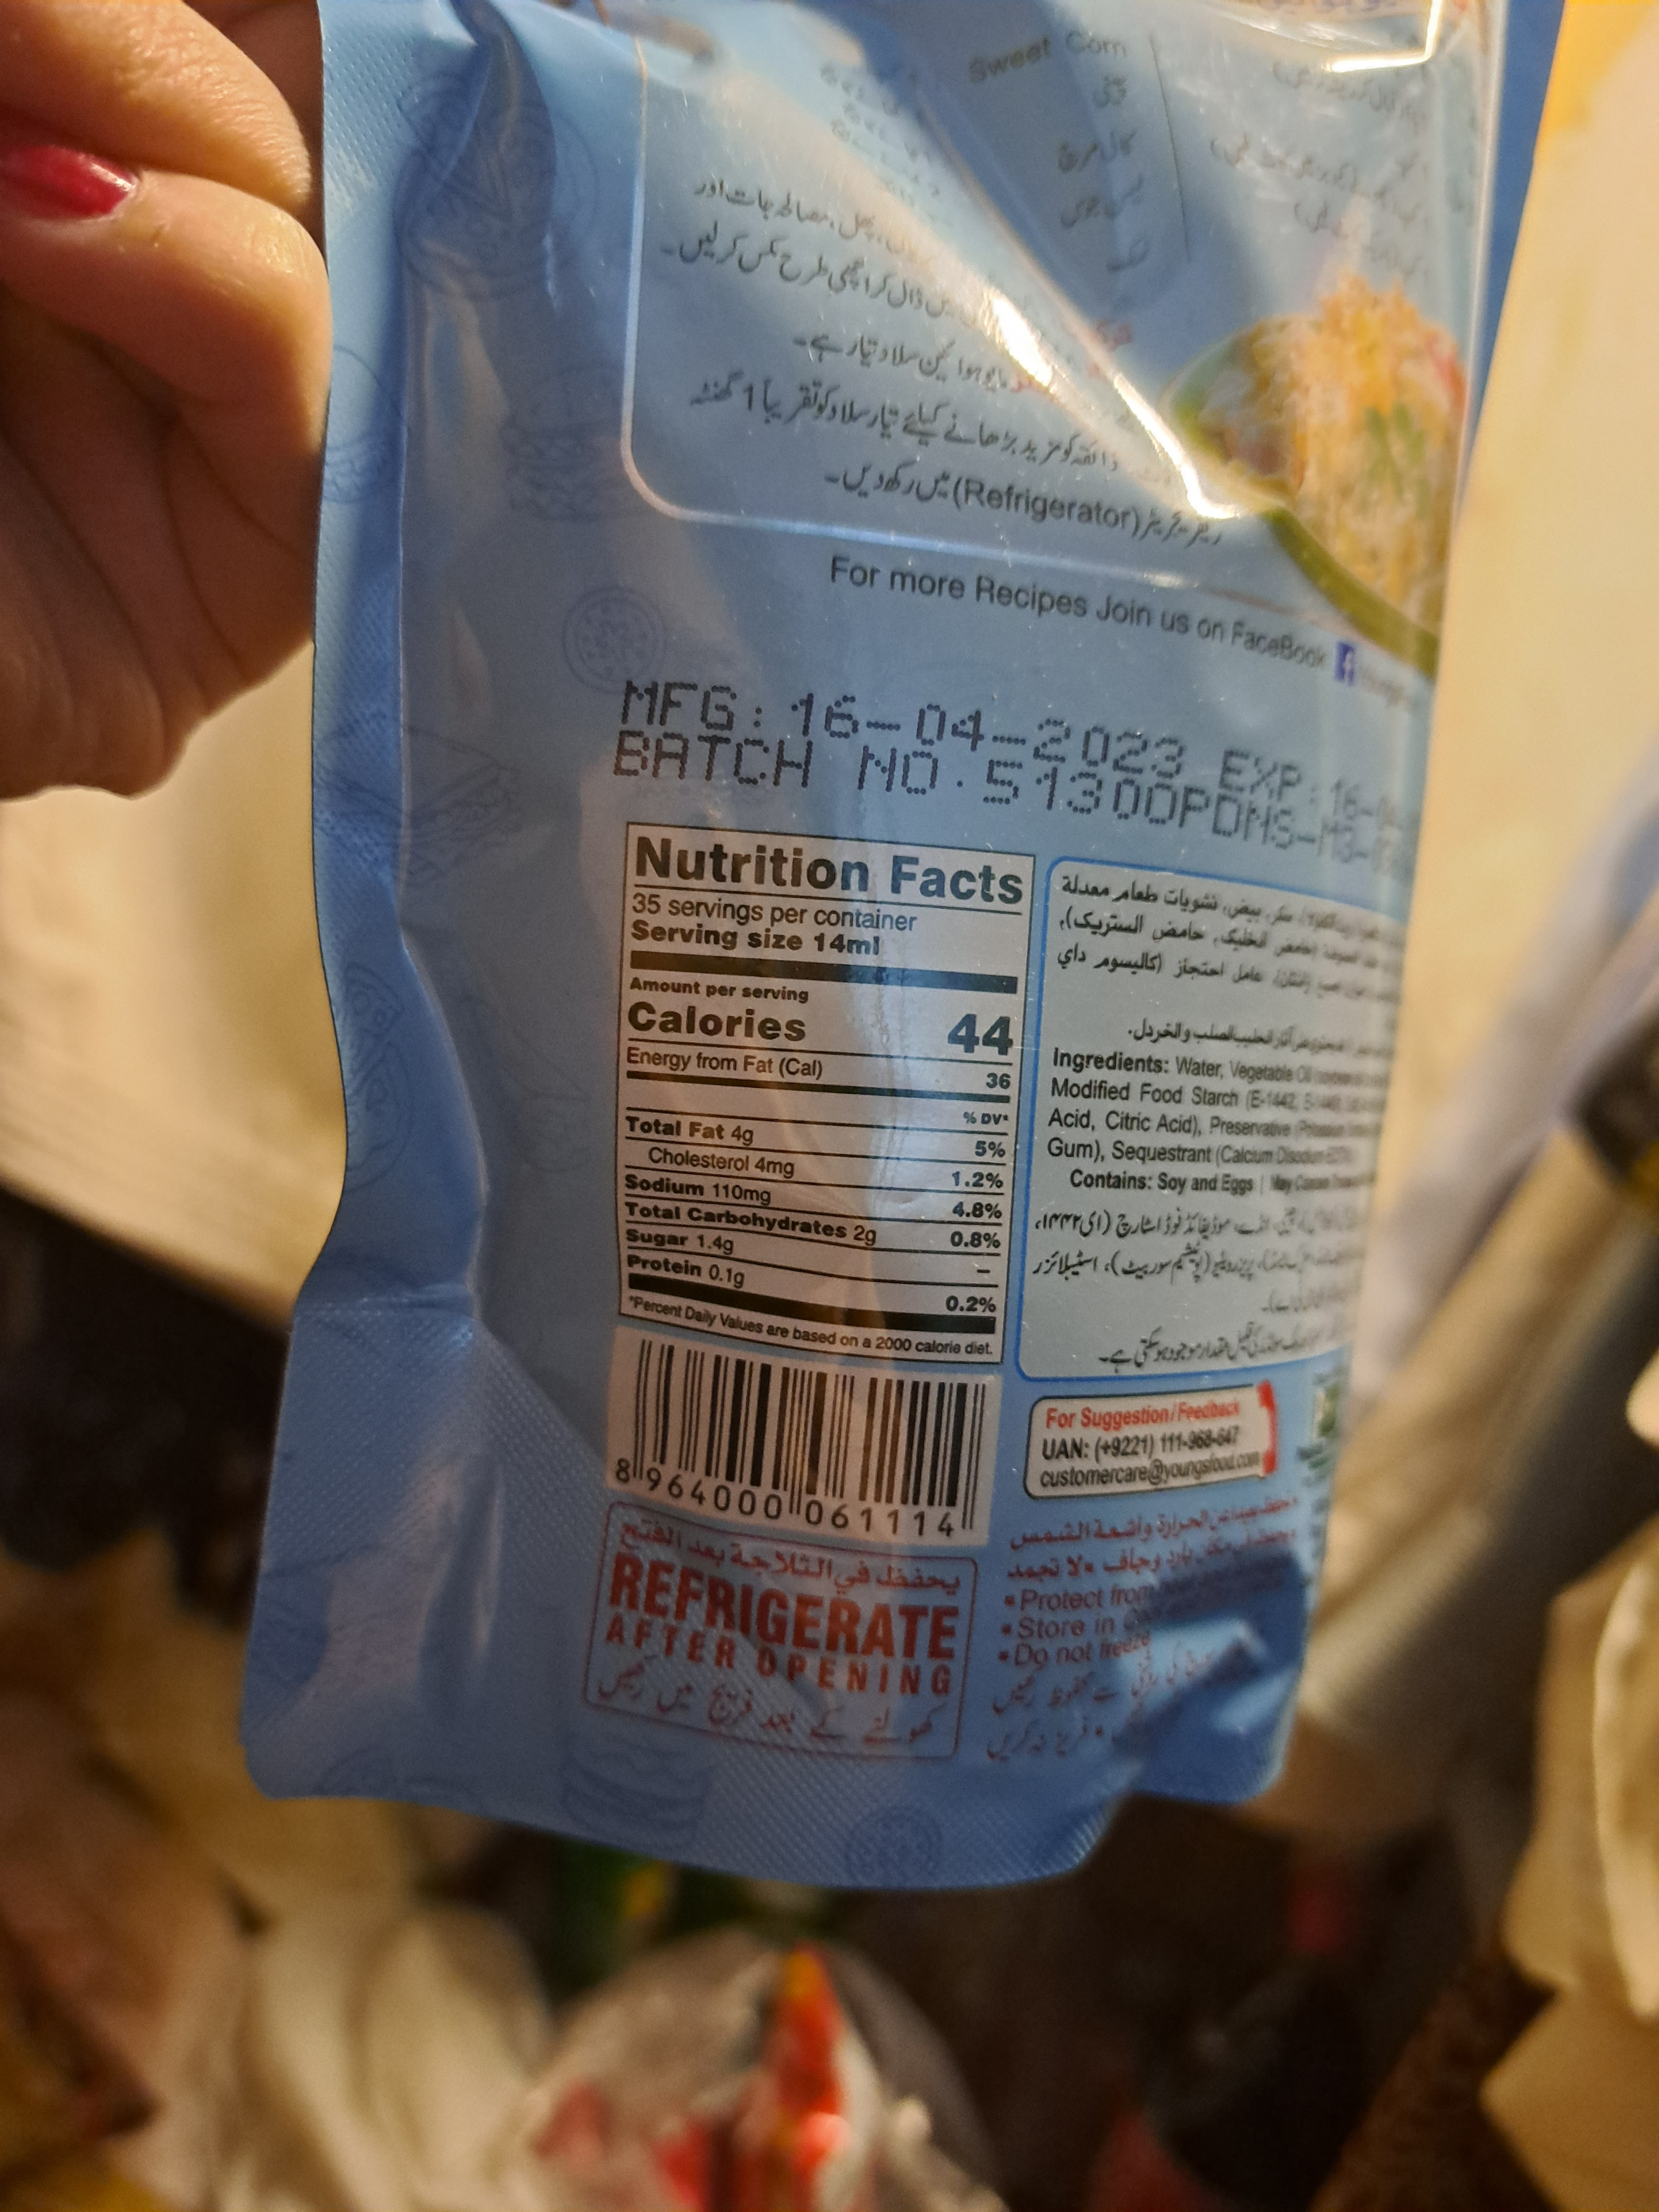table: (613, 822, 1012, 1379)
